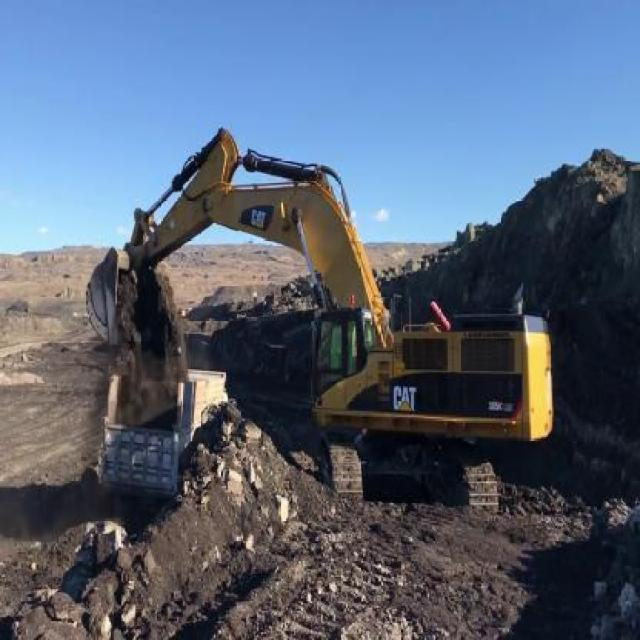dump_truck: (98, 361, 231, 504)
excavator: (85, 122, 553, 506)
